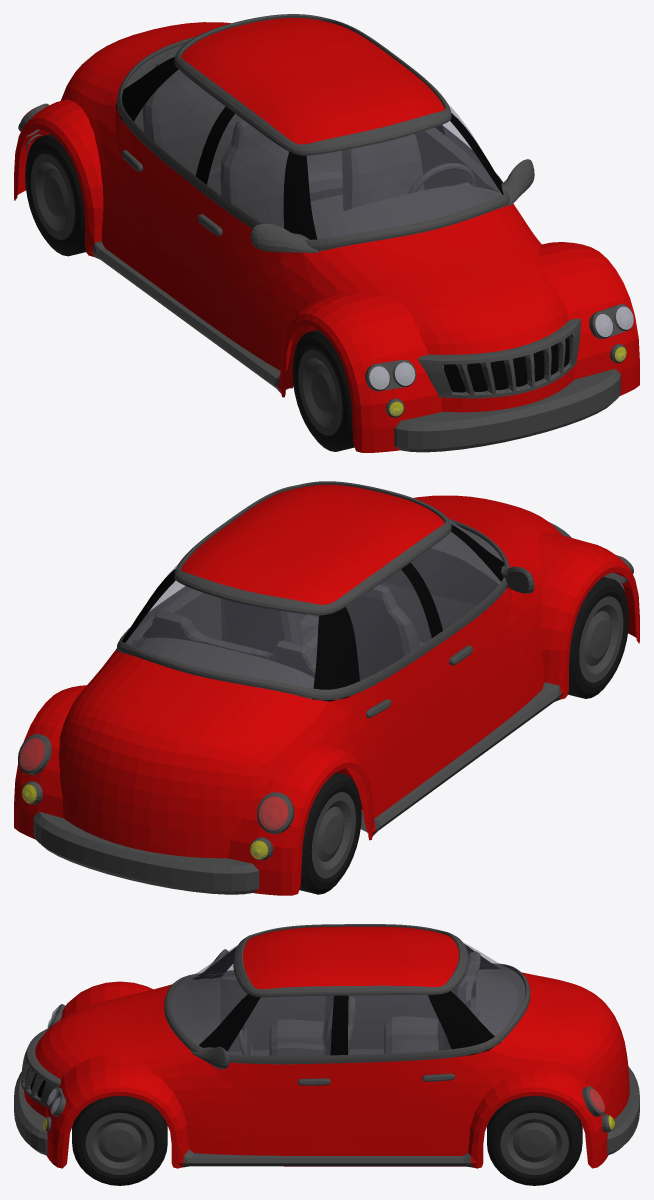
File: concept-sedan-01v2.obj
The picture shows the model from 3 angles, top to bottom: view 1: azimuth 30°, elevation 25°; view 2: azimuth 150°, elevation 25°; view 3: azimuth 270°, elevation 25°; orthographic projection. The views are drawn at different scales.
Visible parts, largest first — view 1: Car_body.001_Mesh.001_Car, Car_body.001_Mesh.001_Glass, Car_fenders_Car_fenders_Car, Car_body.002_Mesh.002_Chrome, Front_seats_Front_seats_Interior, Bumper_Bumper_Chrome, Interior_Interior_Interior, Car_body.001_Mesh.001_Black_matte, Rear_seats_Rear_seats_Interior, Car_body_Mesh_Chrome, Car_fenders_Car_fenders_Chrome, Tire.001_Tire.001_Chrome (+9 smaller); view 2: Car_body.001_Mesh.001_Car, Car_body.001_Mesh.001_Glass, Car_fenders_Car_fenders_Car, Interior_Interior_Interior, Car_body.002_Mesh.002_Chrome, Bumper_Bumper_Chrome, Front_seats_Front_seats_Interior, Car_body.001_Mesh.001_Black_matte, Car_fenders_Car_fenders_Chrome, Rear_seats_Rear_seats_Interior, Tire.001_Tire.001_Chrome, Tire.002_Tire.002_Chrome (+5 smaller); view 3: Car_body.001_Mesh.001_Car, Car_body.001_Mesh.001_Glass, Car_fenders_Car_fenders_Car, Interior_Interior_Interior, Car_body.002_Mesh.002_Chrome, Car_body.001_Mesh.001_Black_matte, Tire_Tire_Tire_Rubber, Tire.003_Tire.003_Tire_Rubber, Tire_Tire_Chrome, Tire.003_Tire.003_Chrome, Car_fenders_Car_fenders_Chrome, Rear_seats_Rear_seats_Interior (+6 smaller).
Part boxes in pixels (x1,y1,x2,y2): Car_body.001_Mesh.001_Car: (49,17,574,412); Car_body.001_Mesh.001_Glass: (124,44,507,250); Car_fenders_Car_fenders_Car: (14,99,639,452); Car_body.002_Mesh.002_Chrome: (117,14,509,250); Front_seats_Front_seats_Interior: (220,120,424,227); Bumper_Bumper_Chrome: (394,369,620,452); Interior_Interior_Interior: (124,45,508,251); Car_body.001_Mesh.001_Black_matte: (116,57,569,392); Rear_seats_Rear_seats_Interior: (143,62,342,201); Car_body_Mesh_Chrome: (417,318,580,398); Car_fenders_Car_fenders_Chrome: (92,241,287,392); Tire.001_Tire.001_Chrome: (298,349,342,435); Car_body.001_Mesh.001_Car: (58,484,561,858); Car_body.001_Mesh.001_Glass: (126,519,506,698); Car_fenders_Car_fenders_Car: (14,532,639,895); Interior_Interior_Interior: (119,525,506,699); Car_body.002_Mesh.002_Chrome: (117,481,509,700); Bumper_Bumper_Chrome: (33,811,259,894); Front_seats_Front_seats_Interior: (220,584,420,680); Car_body.001_Mesh.001_Black_matte: (116,524,507,701); Car_fenders_Car_fenders_Chrome: (360,682,561,835); Rear_seats_Rear_seats_Interior: (143,610,316,677); Tire.001_Tire.001_Chrome: (579,596,623,682); Tire.002_Tire.002_Chrome: (311,792,355,878); Car_body.001_Mesh.001_Car: (24,926,629,1166); Car_body.001_Mesh.001_Glass: (170,942,525,1055); Car_fenders_Car_fenders_Car: (45,981,608,1168); Interior_Interior_Interior: (164,969,529,1064); Car_body.002_Mesh.002_Chrome: (164,924,530,1064); Car_body.001_Mesh.001_Black_matte: (30,944,500,1098); Tire_Tire_Tire_Rubber: (72,1095,167,1185); Tire.003_Tire.003_Tire_Rubber: (487,1095,582,1185); Tire_Tire_Chrome: (85,1112,154,1174); Tire.003_Tire.003_Chrome: (500,1112,568,1174); Car_fenders_Car_fenders_Chrome: (182,1149,472,1167); Rear_seats_Rear_seats_Interior: (384,951,480,1053).
Bounding box in the file's own units: 10.42 × 8.45 × 25.69.
